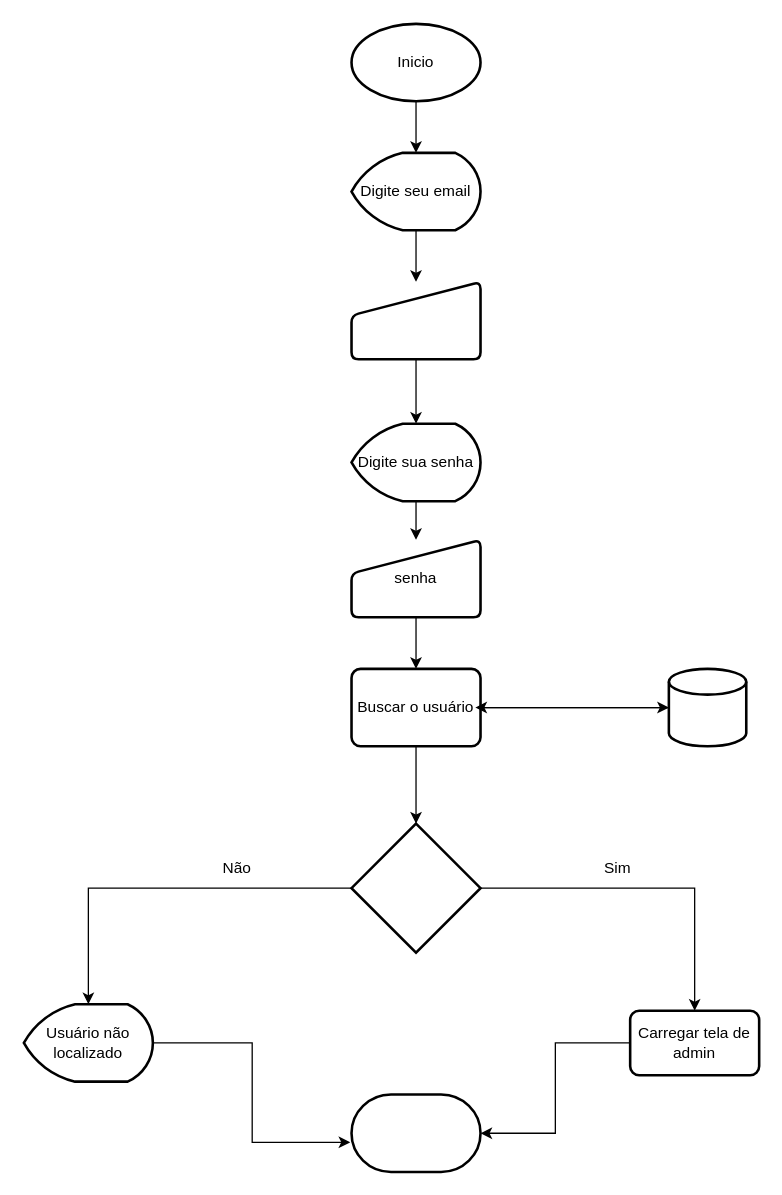
The diagram is 782 pixels wide and 1195 high, and some of its shapes have lost their labels. Here are the shapes that lost their labels. From the top down, the centre of each, then its label:
(x=415, y=320): email
(x=707, y=707): Banco de dados
(x=415, y=887): Acho?
(x=415, y=1133): Termino
